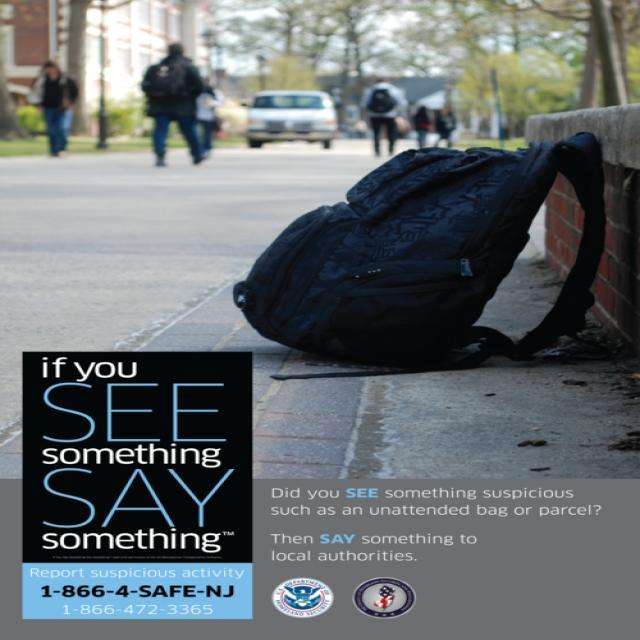Backpacks: (227, 127, 617, 377)
